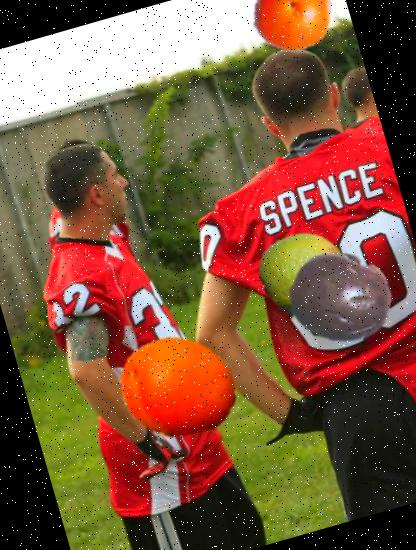Apricot: (105, 316, 251, 462)
Limes: (250, 219, 358, 327)
Passion: (276, 232, 406, 362)
Tangelo: (242, 0, 342, 62)
